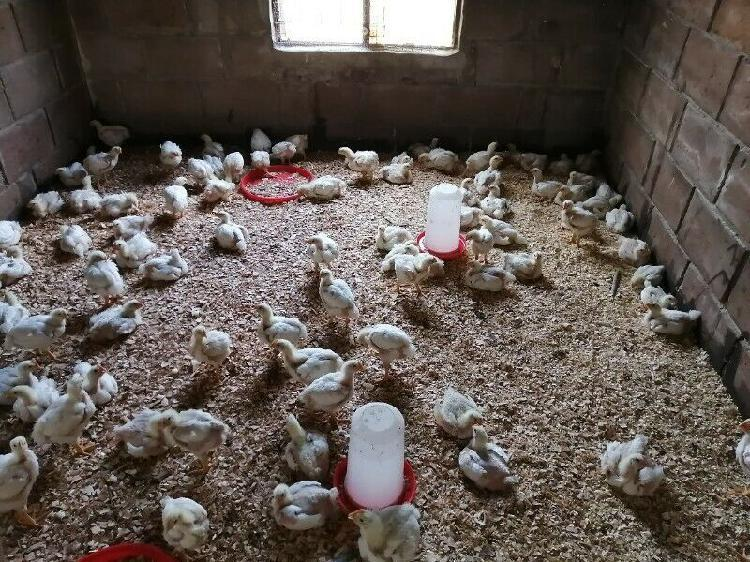chicken: (458, 423, 518, 496), (348, 503, 420, 562), (38, 374, 91, 453), (600, 438, 666, 498), (270, 481, 341, 532), (6, 307, 73, 358), (279, 411, 331, 474), (169, 410, 227, 462), (158, 493, 211, 549), (113, 409, 172, 458), (301, 360, 361, 408), (359, 324, 418, 371), (639, 294, 703, 337), (0, 436, 36, 510), (271, 339, 341, 377), (316, 270, 363, 321), (252, 302, 309, 344), (11, 373, 56, 426), (434, 387, 484, 434), (91, 297, 147, 338), (381, 253, 436, 290), (561, 199, 602, 247), (74, 358, 118, 402), (85, 248, 122, 298), (0, 356, 43, 396), (189, 324, 229, 367), (466, 257, 513, 291), (214, 209, 250, 253), (141, 247, 186, 281), (87, 116, 130, 150), (67, 174, 103, 214), (159, 174, 193, 214), (481, 216, 529, 244), (116, 232, 154, 267), (376, 222, 416, 253), (613, 233, 651, 264), (298, 178, 346, 202), (464, 140, 500, 172), (338, 146, 377, 175), (509, 249, 544, 281), (623, 261, 665, 287), (530, 166, 563, 198), (28, 190, 64, 218), (421, 147, 460, 172), (86, 147, 126, 171), (308, 232, 341, 261), (59, 223, 92, 252), (480, 182, 510, 211), (382, 158, 416, 183), (464, 227, 497, 252), (54, 161, 87, 185), (606, 201, 632, 229), (158, 140, 183, 169), (276, 139, 300, 164), (224, 151, 245, 178), (250, 150, 271, 173)
